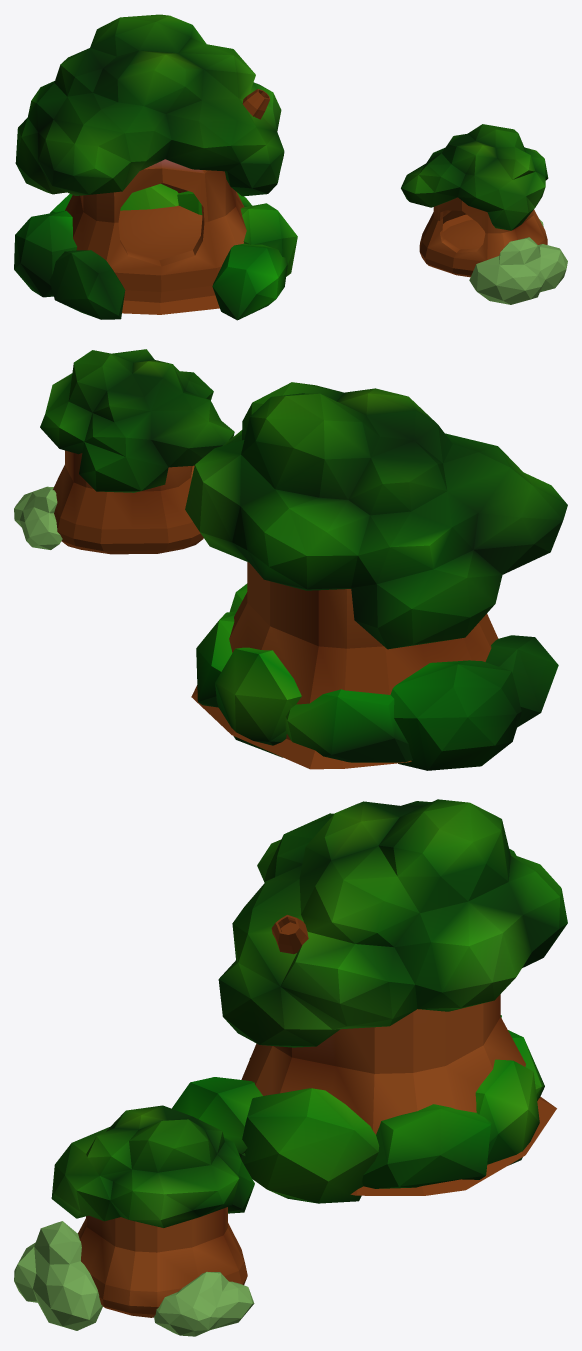
Rendered from Egg_Jackalope.fbx.
3 renders of one model, top to bottom at view 1: azimuth 30°, elevation 25°; view 2: azimuth 150°, elevation 25°; view 3: azimuth 270°, elevation 25°, orthographic. The views are drawn at different scales.
Visible parts, largest first — view 1: DAUN POHON, Pohon, BUSH, DAUN POHON.001, Pohon.001, Icosphere.001; view 2: DAUN POHON, BUSH, DAUN POHON.001, Pohon, Pohon.001, Icosphere.002; view 3: DAUN POHON, BUSH, Pohon, DAUN POHON.001, Pohon.001, Icosphere.001, Icosphere.002.
Boxes of the visible parts, x1,y1,x2,y2 form: DAUN POHON: [15, 14, 284, 196]; Pohon: [65, 89, 269, 314]; BUSH: [14, 183, 297, 320]; DAUN POHON.001: [401, 124, 548, 230]; Pohon.001: [419, 197, 547, 277]; Icosphere.001: [469, 237, 567, 304]; DAUN POHON: [185, 382, 567, 649]; BUSH: [196, 583, 558, 770]; DAUN POHON.001: [40, 349, 234, 492]; Pohon: [191, 562, 498, 769]; Pohon.001: [53, 450, 203, 554]; Icosphere.002: [14, 486, 62, 549]; DAUN POHON: [218, 799, 567, 1047]; BUSH: [172, 1015, 544, 1203]; Pohon: [241, 915, 556, 1195]; DAUN POHON.001: [51, 1105, 254, 1227]; Pohon.001: [78, 1207, 247, 1317]; Icosphere.001: [14, 1221, 102, 1330]; Icosphere.002: [154, 1271, 254, 1336].
Bounding box in the file's own units: 738 × 392 × 569.
